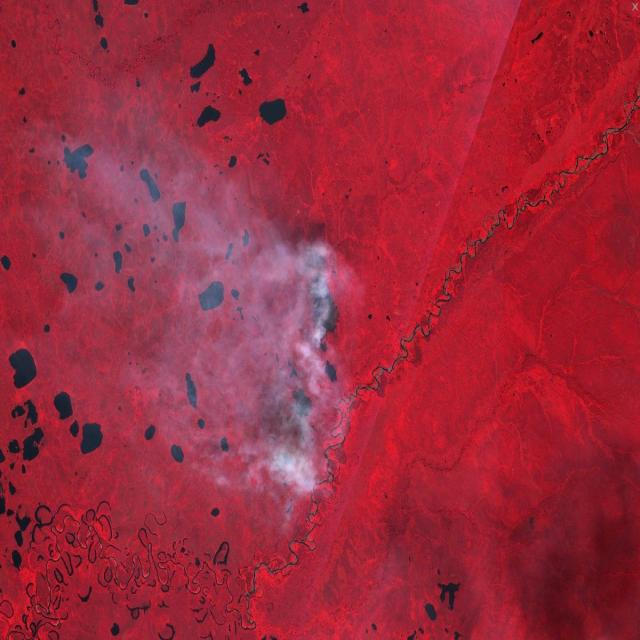fire: (293, 235, 341, 354)
